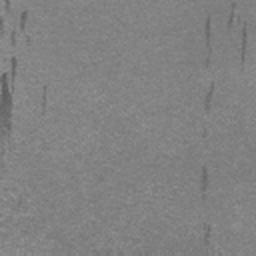Red iron sheet: (0, 57, 17, 119), (205, 83, 214, 111), (241, 28, 247, 62), (201, 167, 208, 191), (20, 11, 28, 30), (204, 225, 211, 245), (205, 18, 211, 40)
